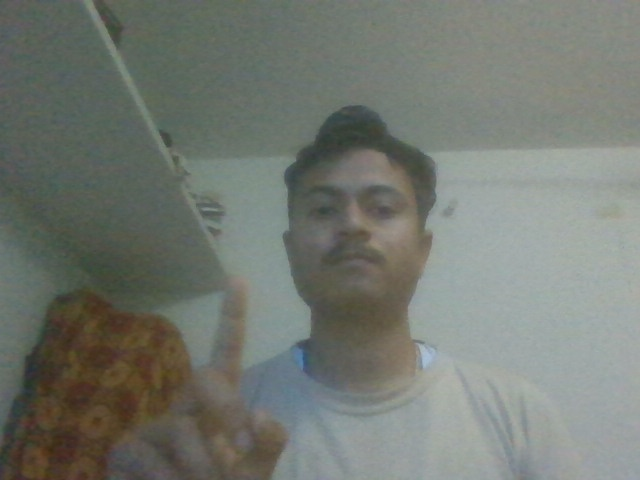No: (121, 272, 306, 480)
